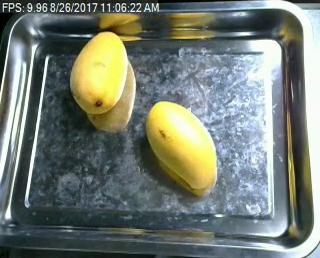Mango: (145, 99, 223, 200), (64, 28, 129, 116)
